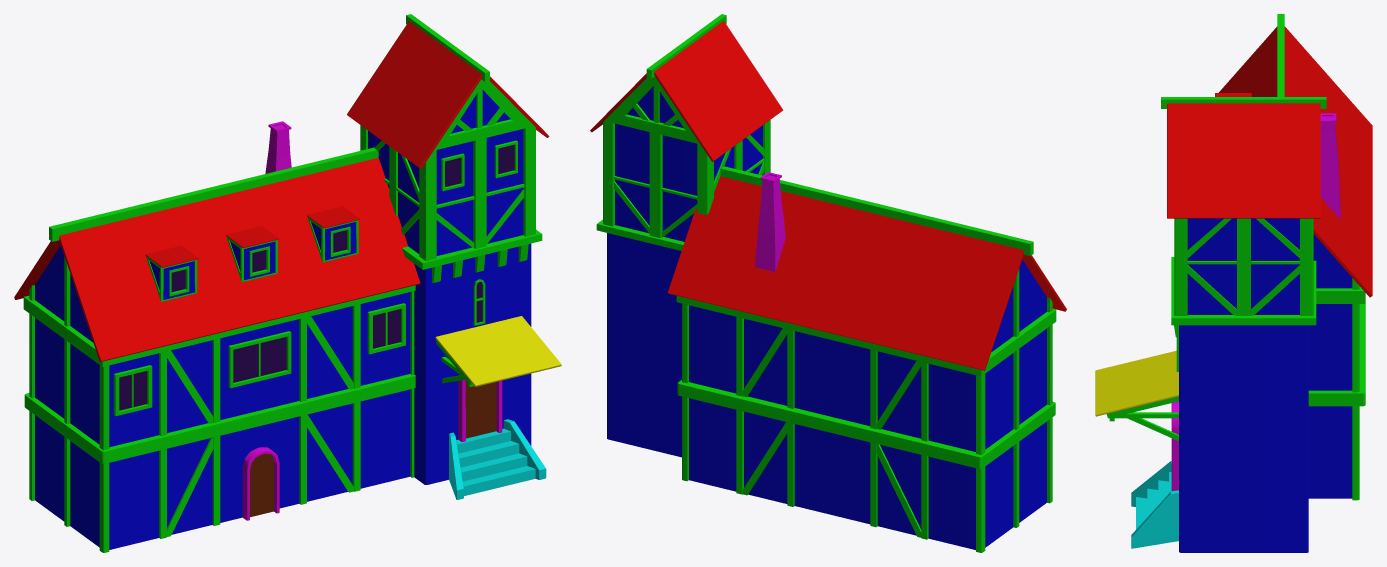
Rendered from RuinedTown_House_Set_02_high.fbx.
The picture shows the model from 3 angles, left to right: view 1: azimuth 30°, elevation 25°; view 2: azimuth 150°, elevation 25°; view 3: azimuth 270°, elevation 25°; orthographic projection. The views are drawn at different scales.
Parts seen in each view (by area): view 1: TownHouseTwo_high; view 2: TownHouseTwo_high; view 3: TownHouseTwo_high.
Part boxes in pixels (left/top/right/bottom): TownHouseTwo_high: left=14, top=14, right=561, bottom=552; TownHouseTwo_high: left=590, top=14, right=1066, bottom=552; TownHouseTwo_high: left=1095, top=14, right=1372, bottom=552.
Bounding box in the file's own units: 1440 × 1258 × 740.
